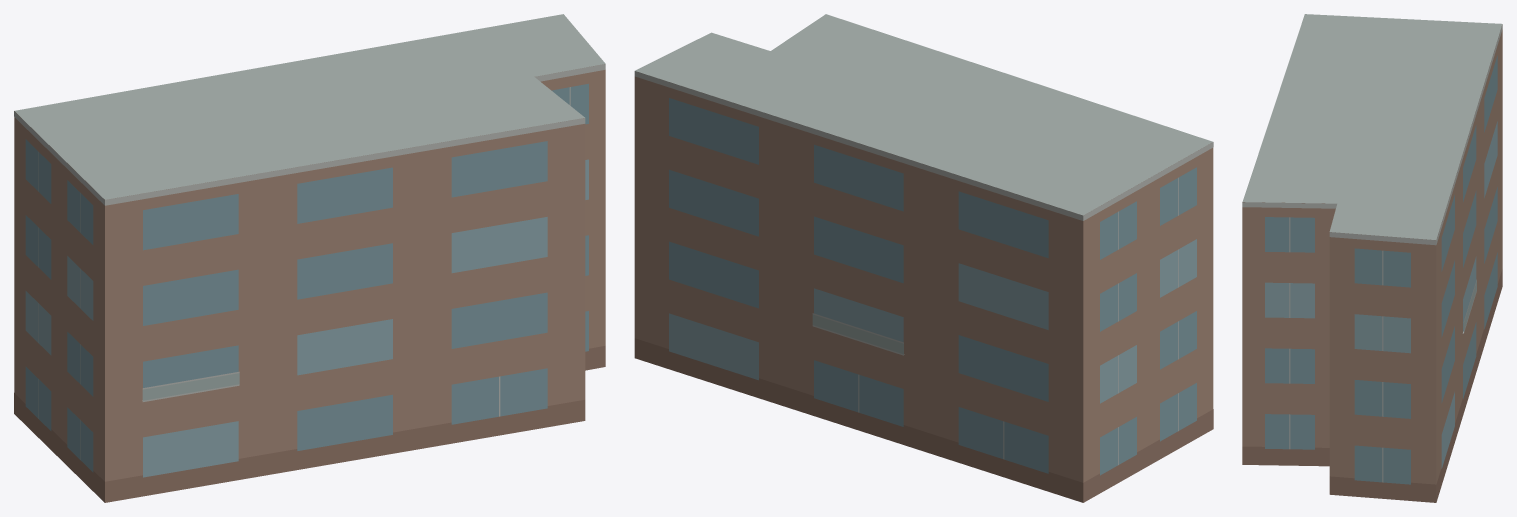
File: survey-upis-32915149.glb
3 renders of one model, left to right at view 1: azimuth 30°, elevation 25°; view 2: azimuth 150°, elevation 25°; view 3: azimuth 270°, elevation 25°, orthographic. The views are drawn at different scales.
Parts seen in each view (by area): view 1: survey-upis-32915149.tmp; view 2: survey-upis-32915149.tmp; view 3: survey-upis-32915149.tmp.
Boxes of the visible parts, x1,y1,x2,y2 form: survey-upis-32915149.tmp: (14,14,605,502); survey-upis-32915149.tmp: (634,14,1213,502); survey-upis-32915149.tmp: (1242,14,1502,502).
Bounding box in the file's own units: 23.27 × 12.6 × 11.31.
